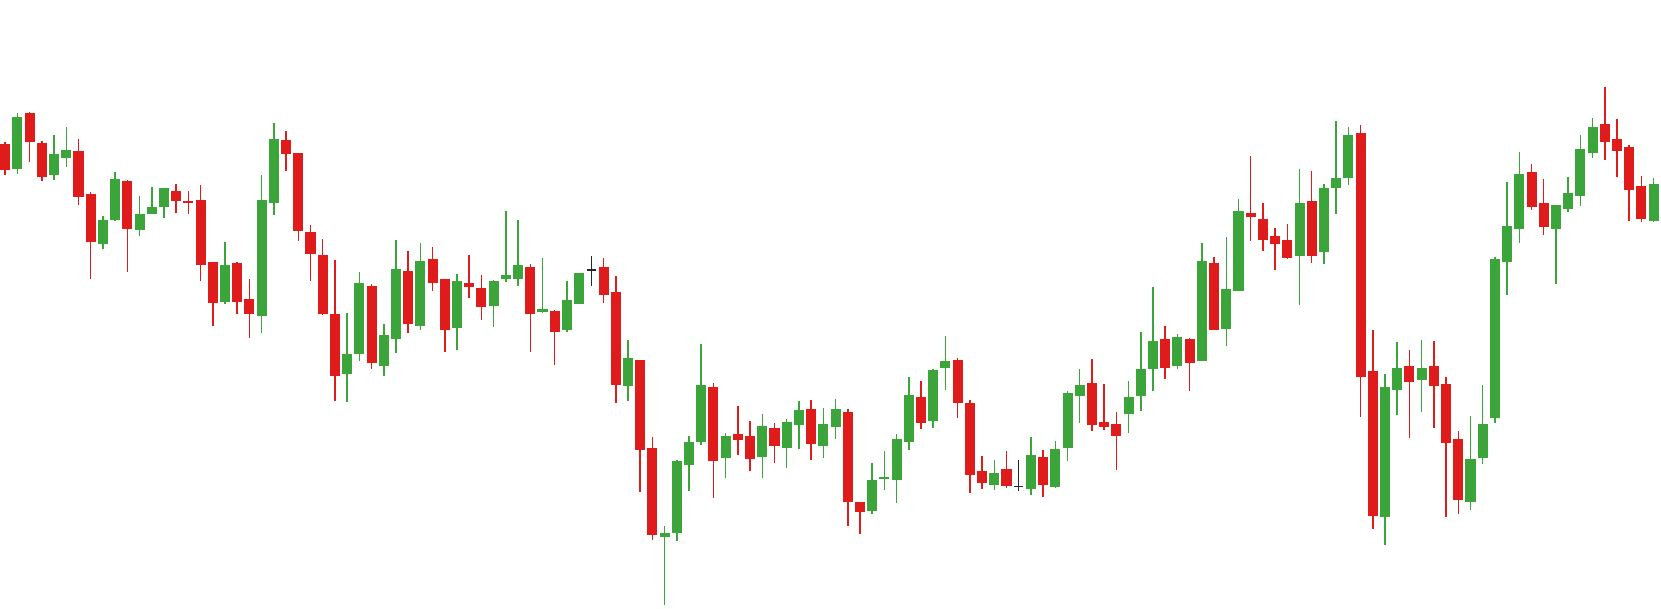buy: (1108, 309, 1392, 549), (706, 415, 878, 537), (400, 208, 511, 314)
sell: (169, 125, 305, 269)
